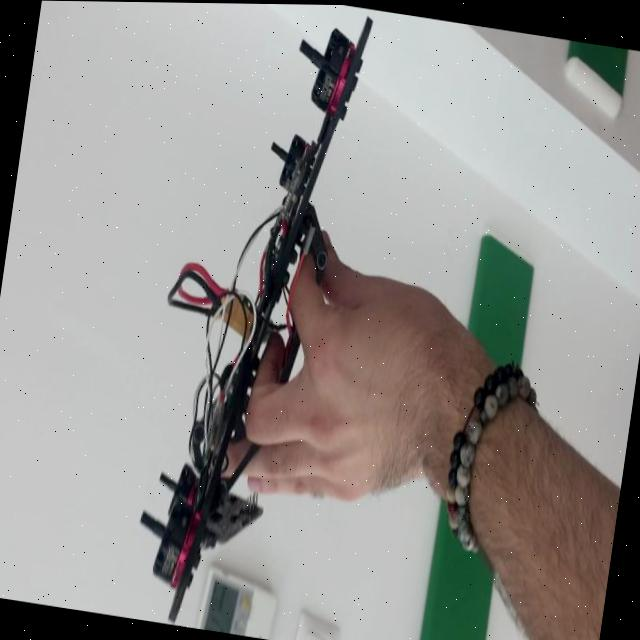drone: (133, 2, 377, 640)
